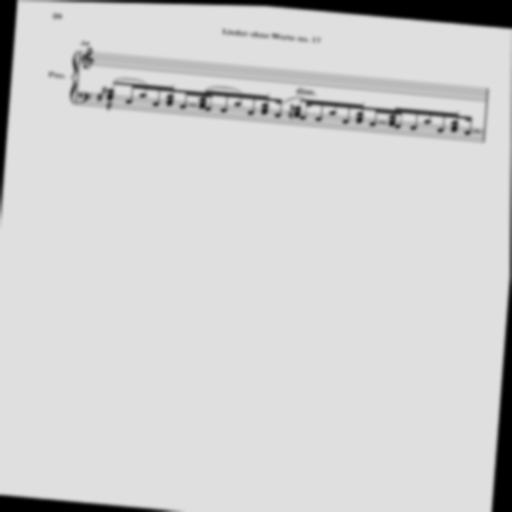bass_clef: (78, 92, 91, 104)
diminuendo: (294, 85, 319, 95)
eighth_note: (342, 101, 355, 122), (126, 83, 139, 103), (153, 85, 165, 106), (316, 99, 328, 120), (106, 81, 119, 100), (411, 107, 422, 128), (438, 110, 449, 131), (294, 97, 303, 117)
natural: (290, 102, 294, 111), (289, 109, 293, 118)
note_head: (167, 93, 173, 98), (425, 117, 431, 122), (107, 88, 113, 92), (107, 93, 113, 97), (140, 93, 146, 97), (166, 101, 172, 105), (167, 98, 173, 102), (199, 96, 205, 100), (199, 101, 205, 105), (199, 104, 205, 108), (205, 106, 211, 110), (221, 107, 227, 111), (235, 101, 241, 105), (248, 110, 254, 114), (262, 102, 268, 106), (261, 107, 267, 111), (275, 112, 281, 116), (295, 105, 301, 109), (294, 109, 300, 113), (294, 112, 300, 116), (300, 114, 306, 118), (329, 109, 335, 113), (343, 118, 349, 122), (356, 118, 362, 122), (389, 113, 395, 117), (389, 117, 395, 121), (451, 123, 457, 127), (107, 96, 113, 99), (126, 100, 132, 103), (153, 102, 159, 105), (180, 104, 186, 107), (316, 116, 322, 119), (357, 111, 363, 114), (357, 115, 363, 118), (370, 121, 376, 124), (389, 121, 395, 124), (395, 123, 401, 126), (411, 124, 417, 127), (438, 127, 444, 130), (452, 119, 458, 122), (451, 126, 457, 129), (465, 129, 471, 132), (262, 110, 267, 113)
sharp: (102, 85, 107, 94), (97, 92, 102, 101)
sixteenth_note: (301, 98, 313, 119), (248, 93, 258, 115), (449, 110, 460, 130), (395, 106, 405, 127), (165, 86, 176, 105), (221, 91, 231, 111), (370, 105, 380, 125), (180, 90, 191, 108), (260, 95, 270, 114), (355, 103, 365, 122), (139, 84, 152, 97), (465, 114, 473, 133), (328, 100, 338, 114), (423, 108, 433, 122), (233, 92, 243, 105), (275, 98, 282, 116)
sixteenth_rest: (106, 101, 112, 110)
slur_sign: (283, 93, 305, 105), (114, 77, 147, 84), (206, 85, 242, 91), (376, 120, 388, 123), (187, 103, 198, 106), (472, 128, 482, 131)
staccato: (172, 84, 175, 86), (267, 92, 269, 94), (362, 100, 364, 102), (457, 109, 459, 111)
staff: (78, 50, 489, 99), (75, 92, 485, 140)
thirty_second_note: (388, 105, 398, 125), (198, 89, 208, 108), (205, 90, 214, 110)
treble_clef: (81, 47, 94, 69)
